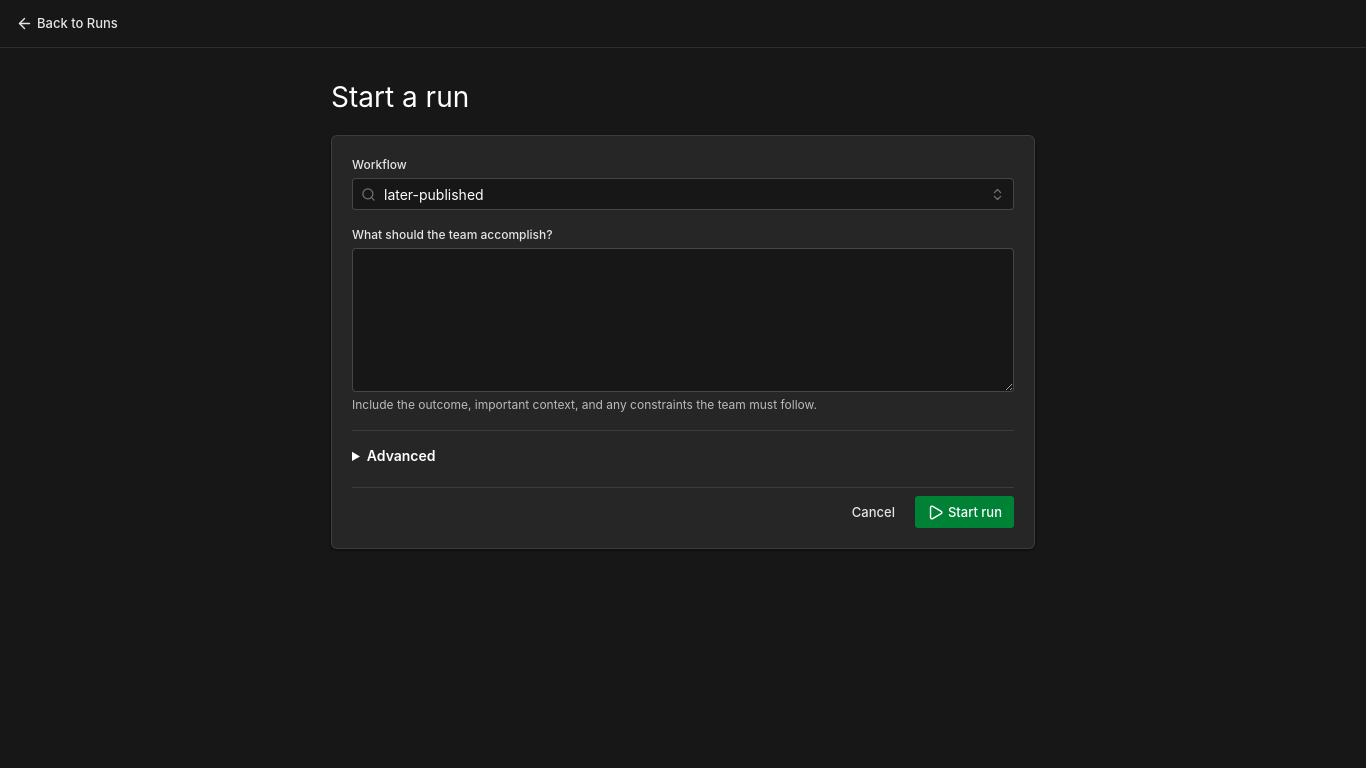
it: Start Run › loads every Workflow page before choosing a published Workflow
The image size is (1366, 768).
Expected: the heading "Start a run" is shown, top-left (331, 80), bottom-right (469, 114)
Click the dropdown named "Workflow": (434, 194) top-left (352, 178), bottom-right (1014, 210)
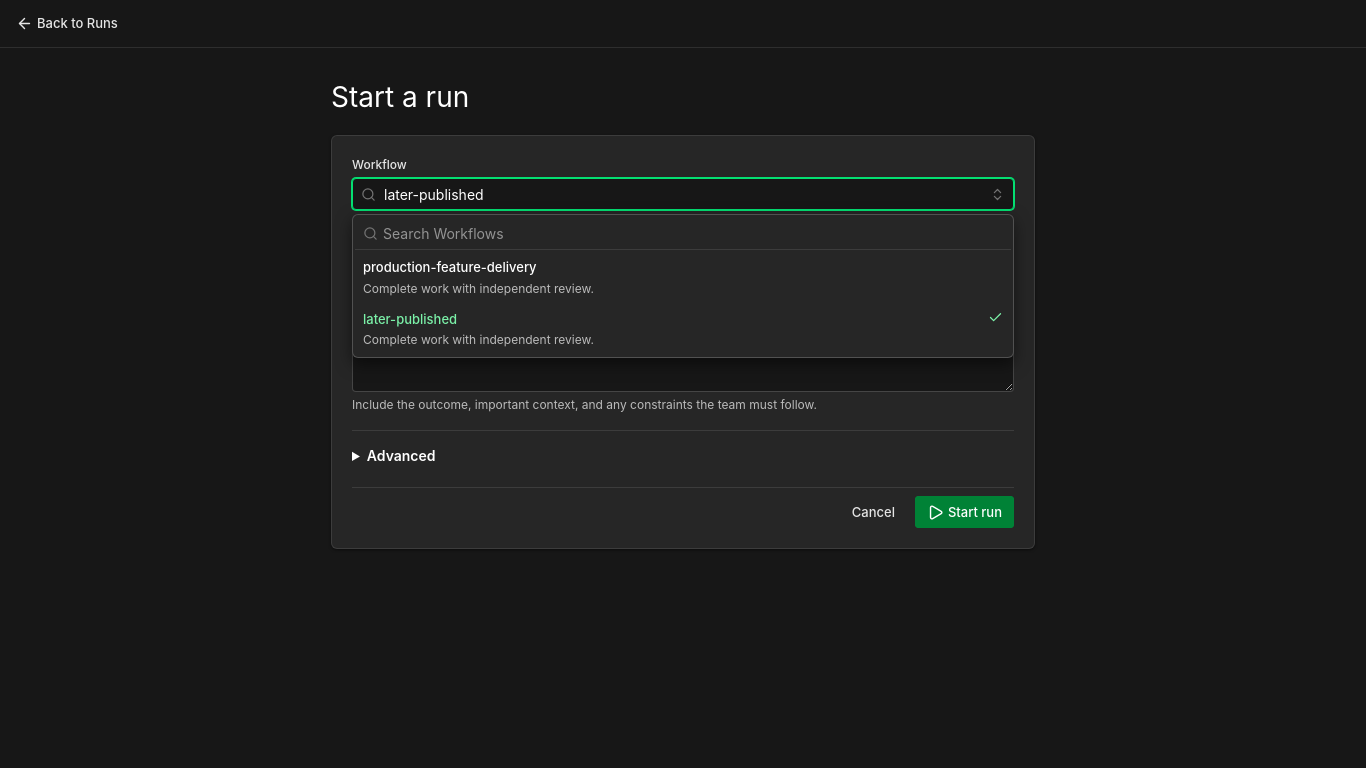
Now the option "later-published Complete work with independent review." is shown, box top-left (355, 304), bottom-right (1011, 355)
In the search field labelled "Search Workflows": (683, 233) top-left (355, 217), bottom-right (1011, 249), type "production-feature"
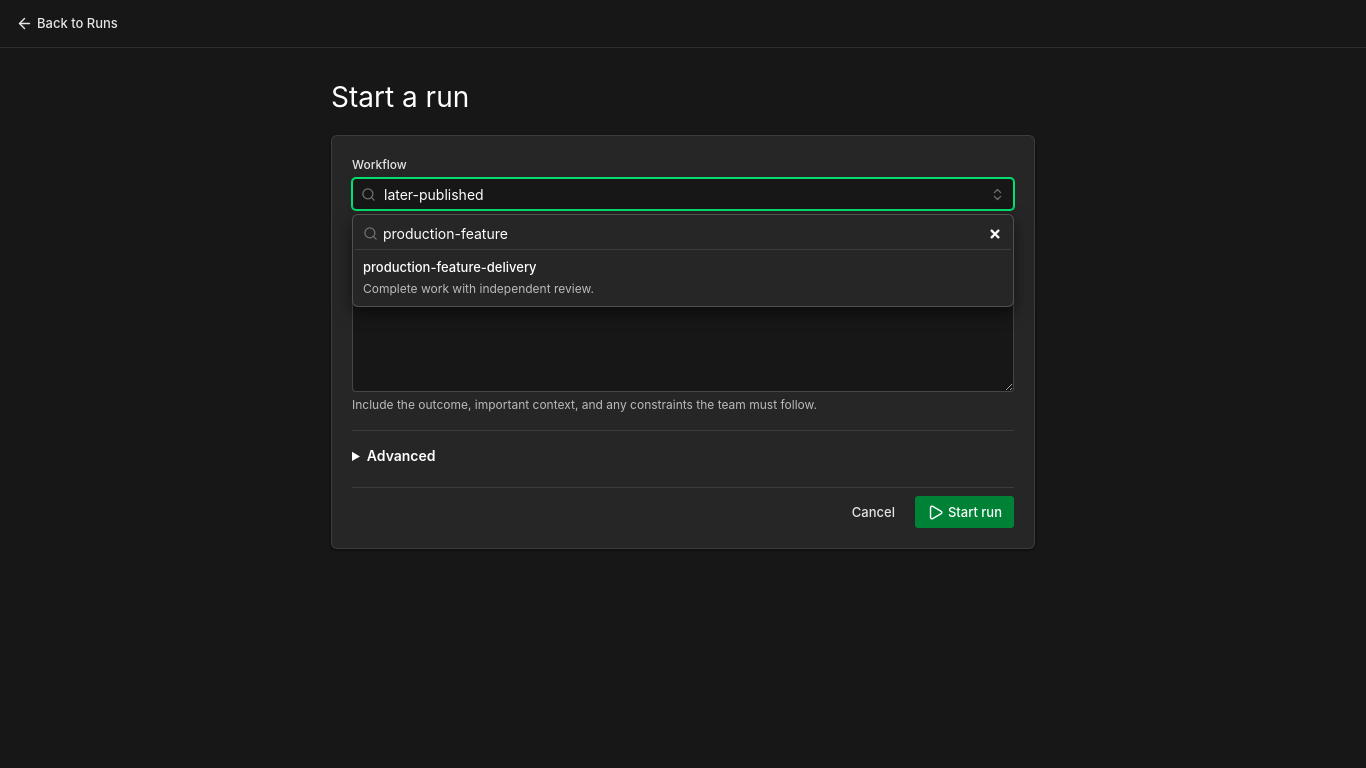
Now the option "production-feature-delivery" is shown
Click the option "production-feature-delivery": (450, 267) top-left (355, 252), bottom-right (1011, 304)
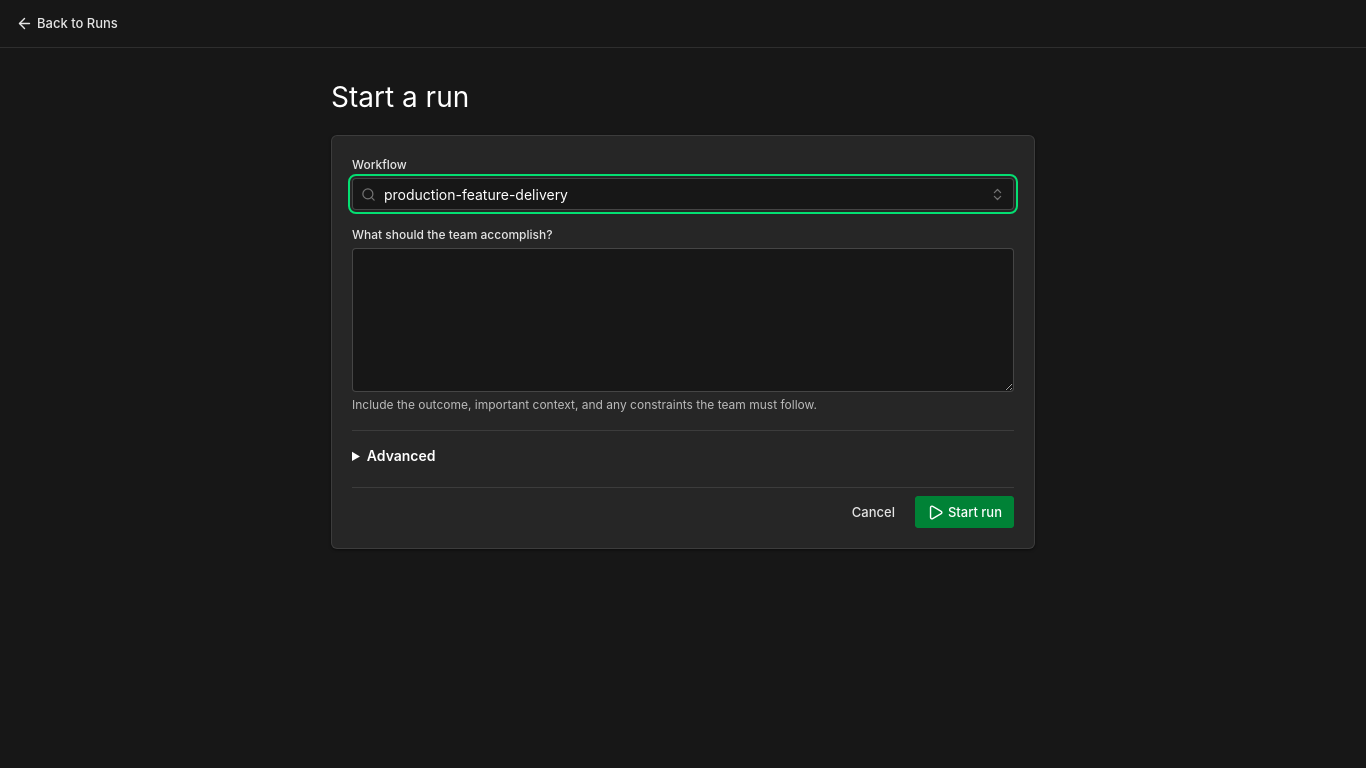
Now the dropdown named "Workflow" reads "production-feature-delivery", box top-left (352, 178), bottom-right (1014, 210)
